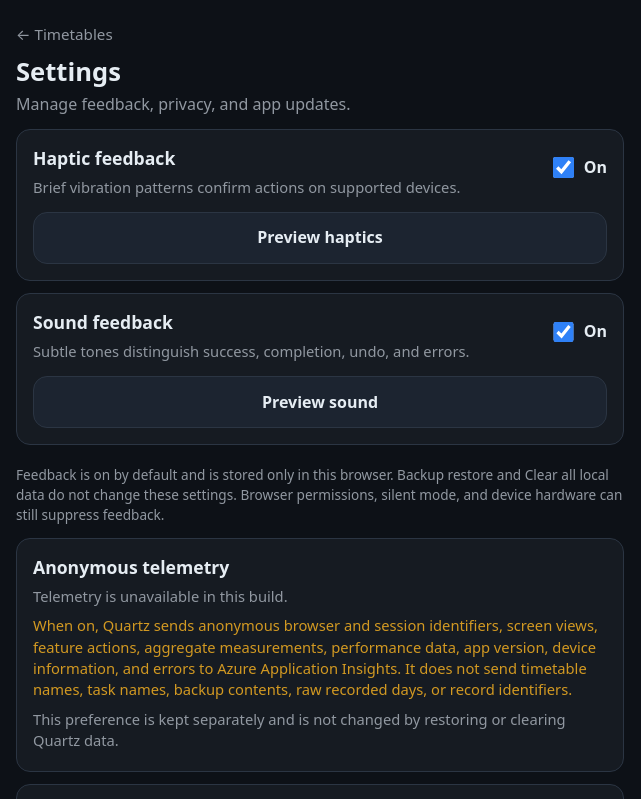
Test: settings › defaults both channels on, changes them independently, and keeps navigation silent
Expected: the heading "Settings" is shown, [16,54,121,89]
Expected: the checkbox named "Haptic feedback" is checked, [553,157,574,178]
Click the checkbox named "Sound feedback" at (563, 332), box [553,322,574,342]
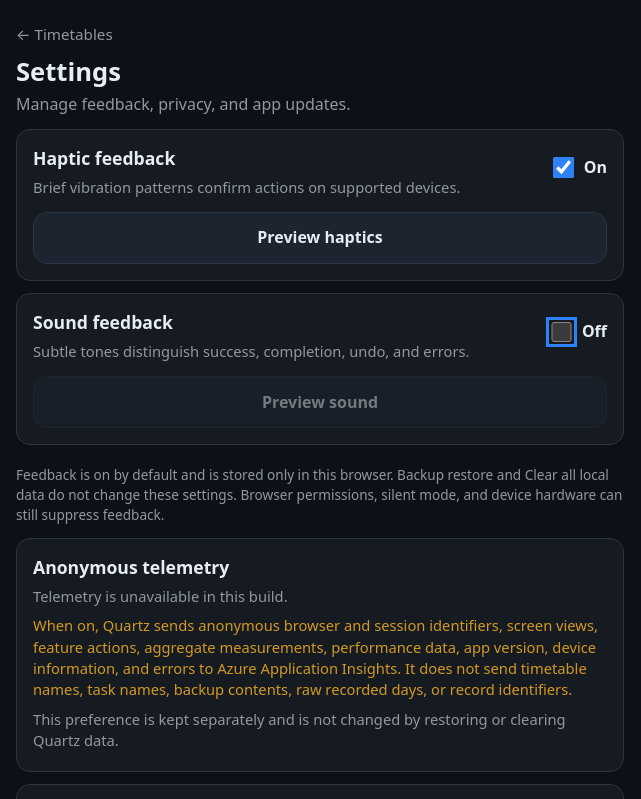
Expected: the checkbox named "Haptic feedback" is checked, [553,157,574,178]
Now the checkbox named "Sound feedback" is not checked, box [551,322,572,342]
Click the link "← Timetables" at (64, 34), box [16,19,113,49]
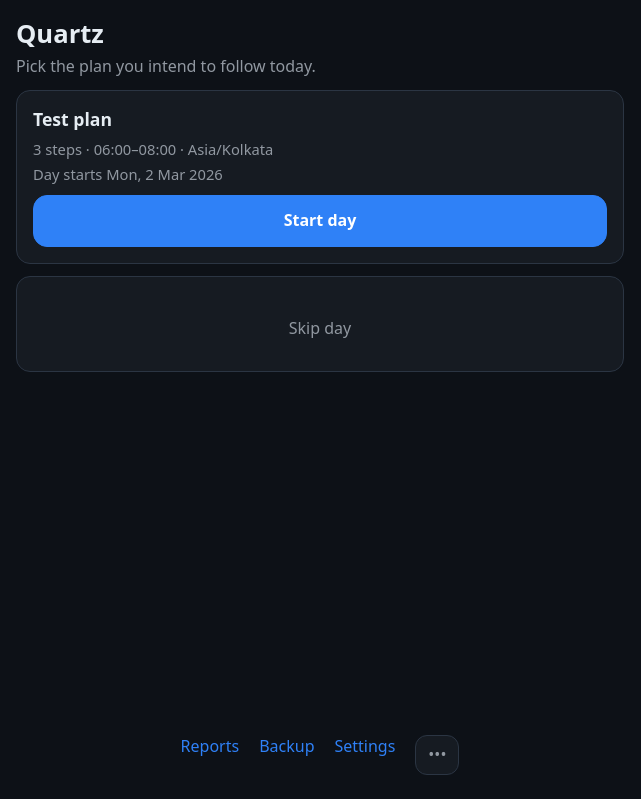
Now the heading "Quartz" is shown, box [16,16,104,51]
